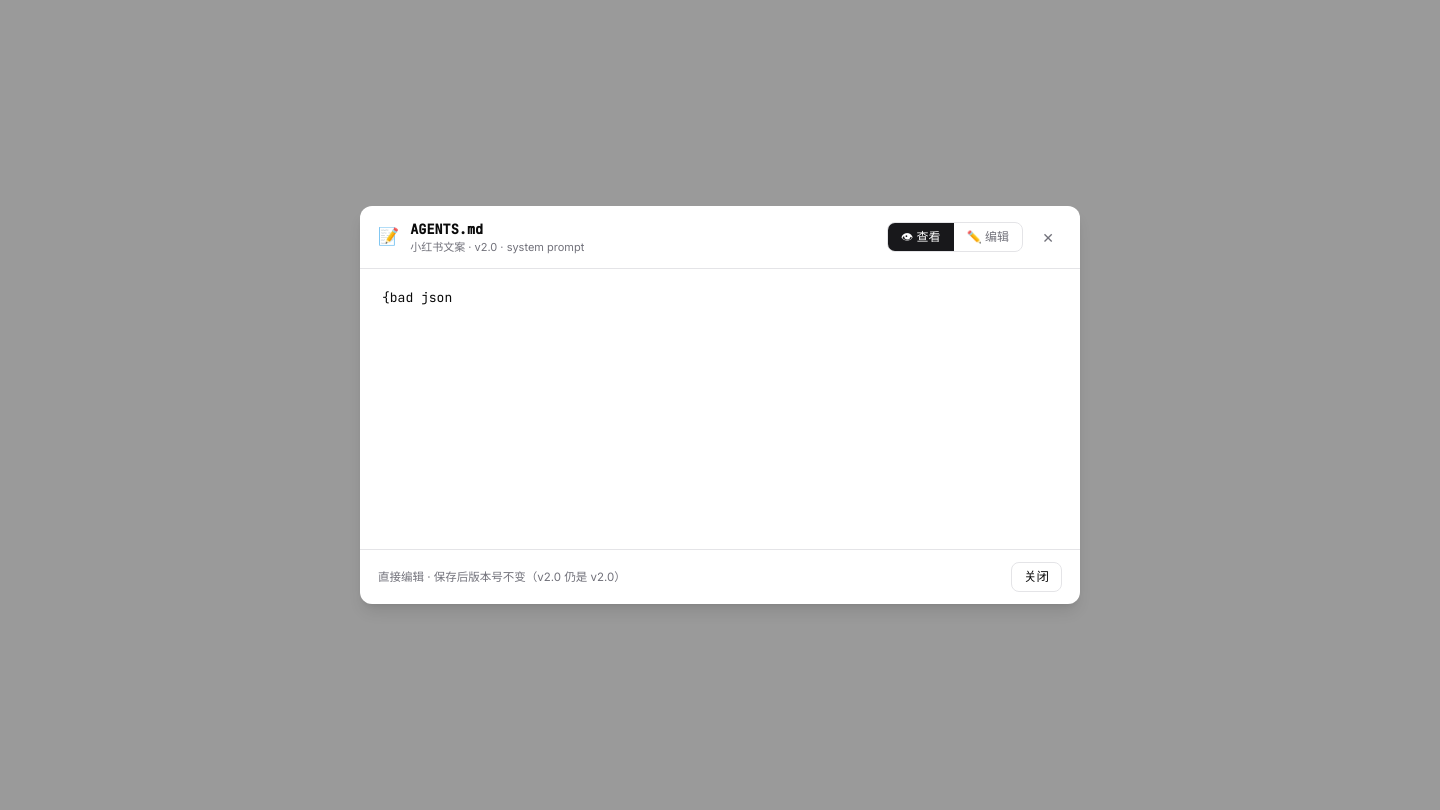
ComponentModalMdEditor — v0.0.241 format 分流 › handleFormat 失败不动 draft + 显 formatFail 文案（UC-241-JSON-FULL 关键不变量）
This screenshot has width=1440, height=810.
Step 1. Click the button "✏️ 编辑" → point(988, 237), box [954,223,1022,251]
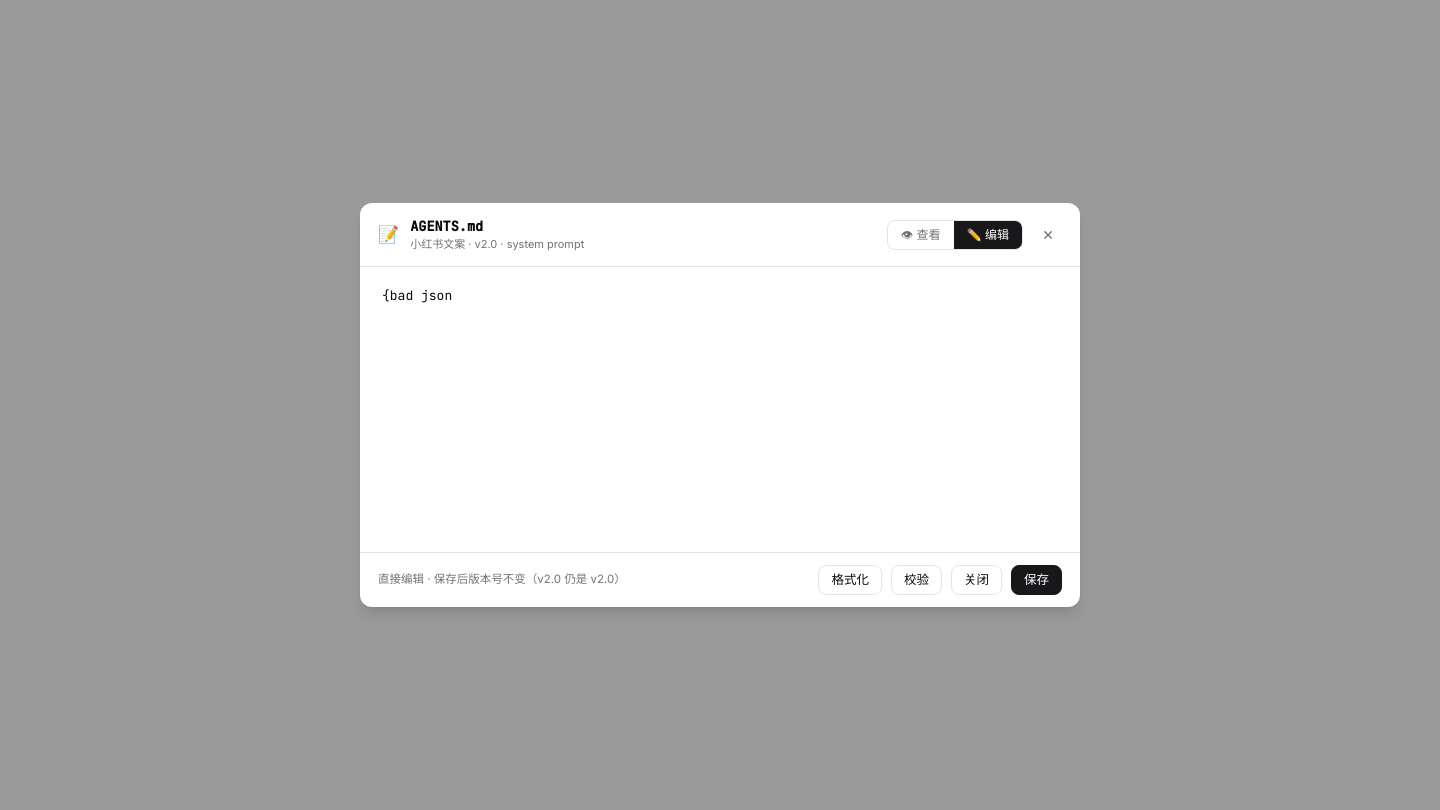
Step 2. Click the button "格式化" → point(850, 580), box [818,565,882,595]
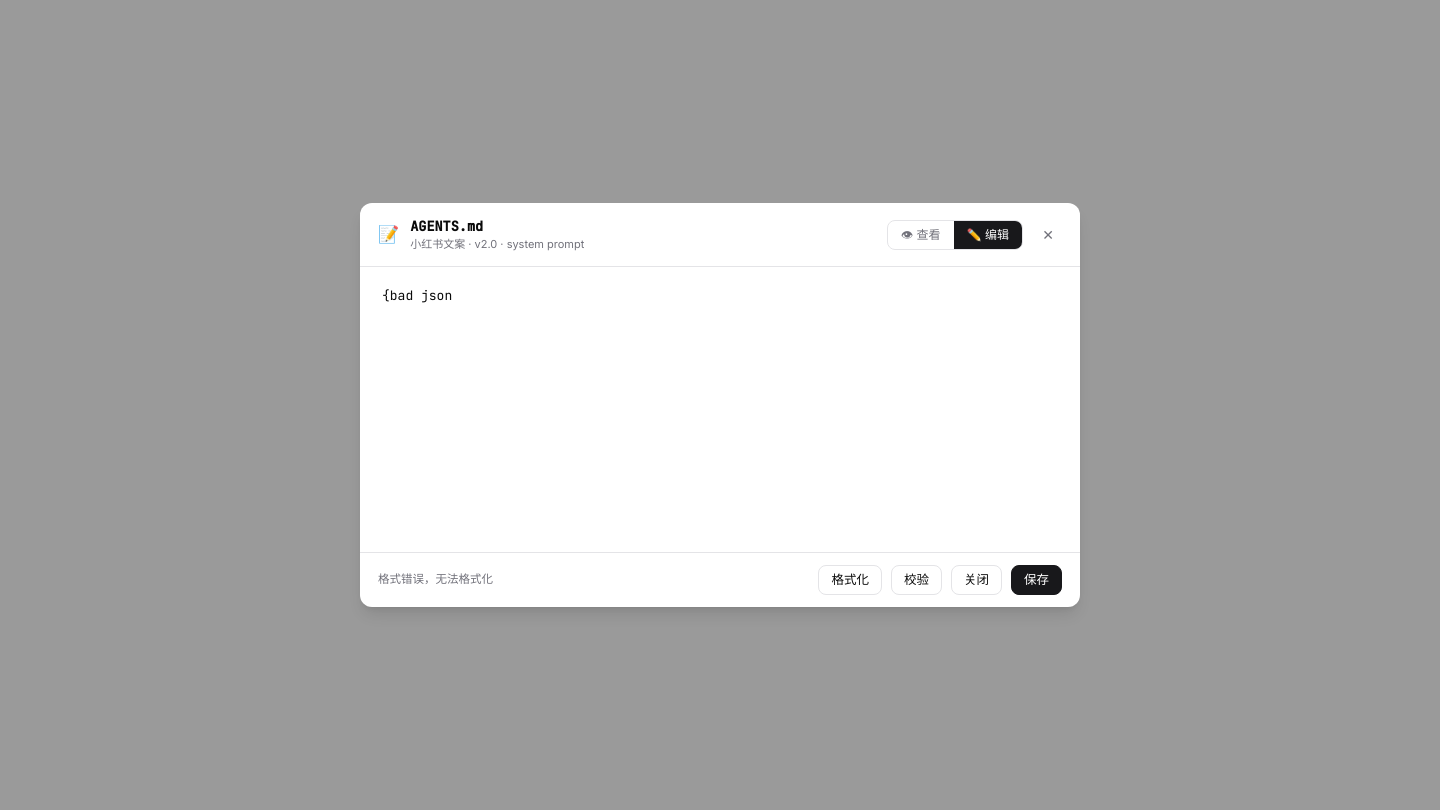
Expected: the text box holds "{bad json", [360,267,1080,547]
Expected: the text "格式错误，无法格式化" is shown, [378,572,493,586]
